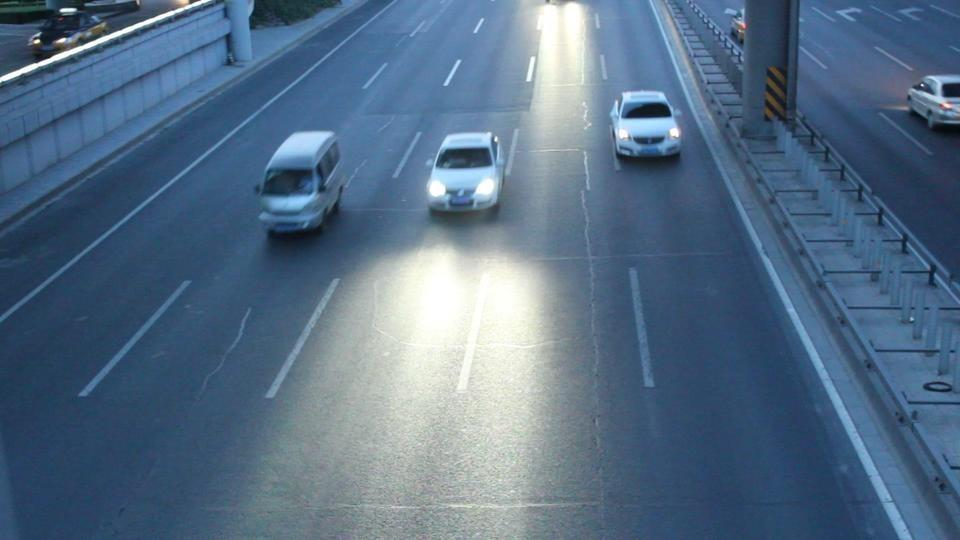car: (255, 129, 347, 237), (425, 131, 506, 217), (608, 90, 683, 161), (28, 10, 108, 61), (906, 73, 960, 131)
